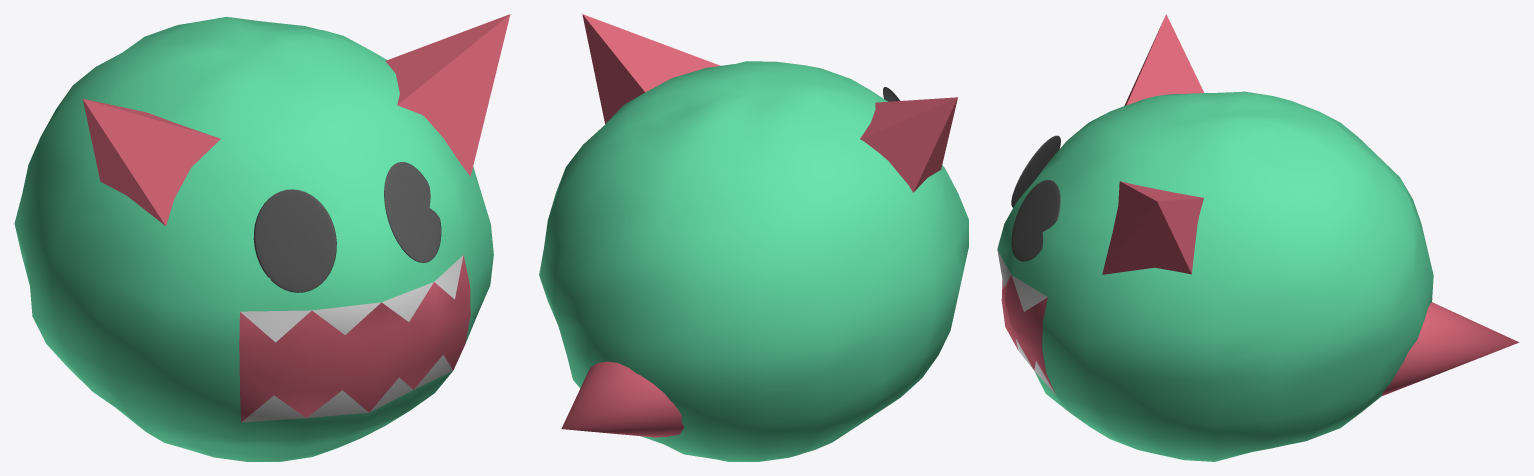
File: ExportedFBXFile.fbx
The picture shows the model from 3 angles, left to right: view 1: azimuth 30°, elevation 25°; view 2: azimuth 150°, elevation 25°; view 3: azimuth 270°, elevation 25°; orthographic projection. The views are drawn at different scales.
Parts seen in each view (by area): view 1: pSphere3, pasted__pPyramid1, pPyramid1, pasted__pSphere2, pasted__pasted__pSphere2; view 2: pSphere3, pCone1, pasted__pPyramid1, pPyramid1; view 3: pSphere3, pasted__pPyramid1, pCone1, pPyramid1, pasted__pasted__pSphere2, pasted__pSphere2.
Part boxes in pixels (x1,y1,x2,y2): pSphere3: (14, 16, 493, 461); pasted__pPyramid1: (385, 14, 510, 176); pPyramid1: (82, 99, 220, 225); pasted__pSphere2: (253, 189, 336, 292); pasted__pasted__pSphere2: (384, 162, 441, 262); pSphere3: (539, 61, 968, 461); pCone1: (561, 361, 684, 437); pasted__pPyramid1: (582, 14, 720, 124); pPyramid1: (860, 97, 957, 192); pSphere3: (997, 91, 1433, 461); pasted__pPyramid1: (1102, 181, 1203, 274); pCone1: (1382, 302, 1519, 395); pPyramid1: (1124, 14, 1203, 105); pasted__pasted__pSphere2: (1011, 180, 1060, 261); pasted__pSphere2: (1011, 135, 1060, 207).
Size of the model in its own units: 1.69 by 1.53 by 2.12.
